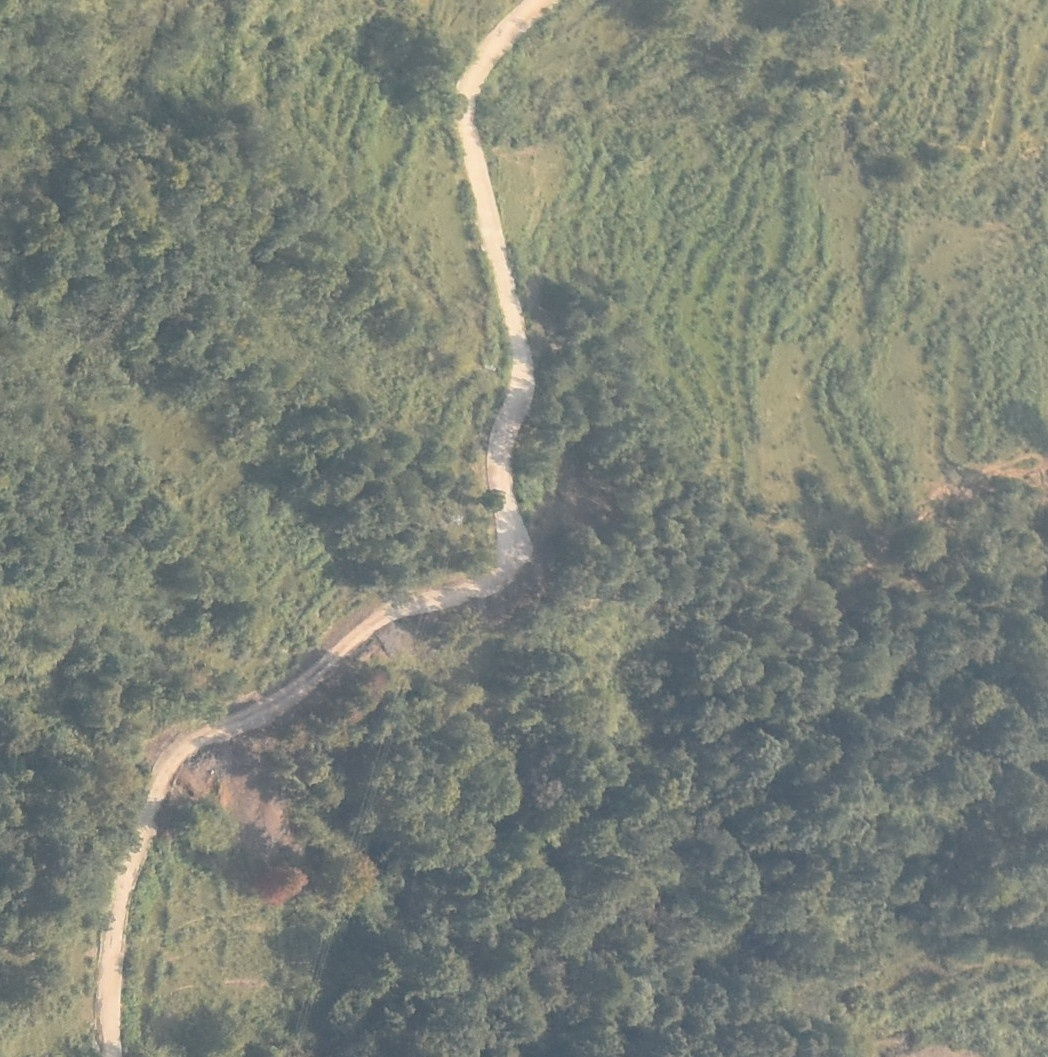cable-tower: (482, 363, 498, 373)
